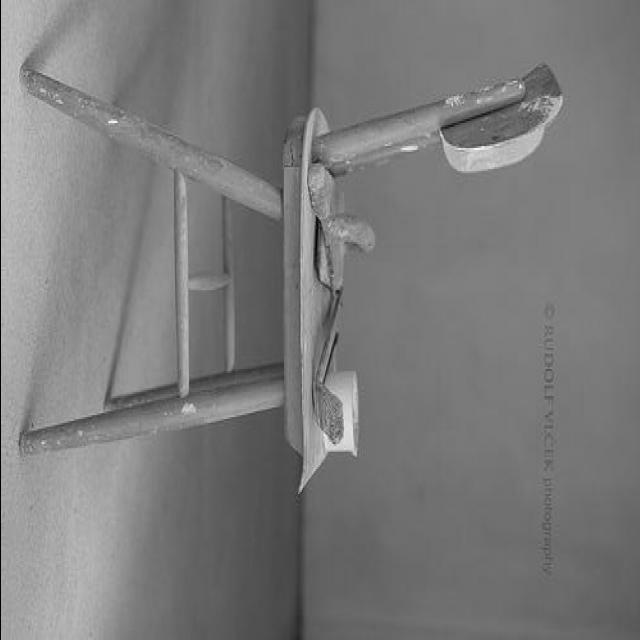chair: (20, 57, 562, 480)
